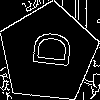D: (23, 28, 72, 70)
